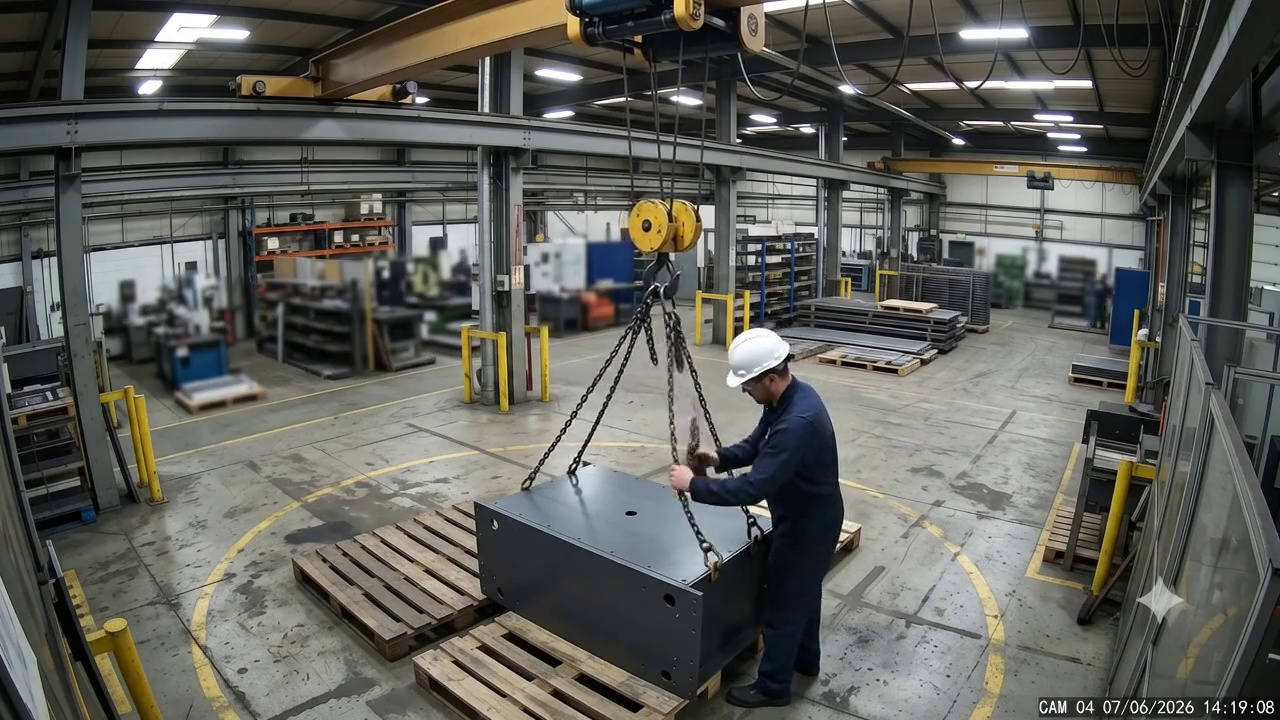person: (668, 326, 846, 710)
